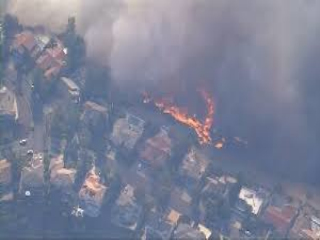fire: (141, 91, 236, 149)
smoke: (84, 9, 204, 91)
